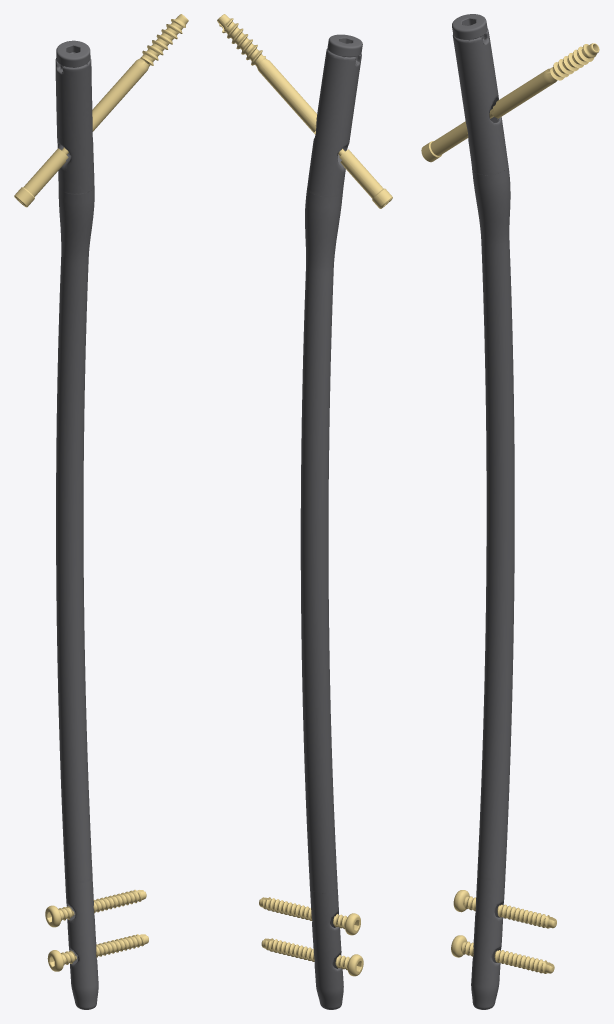
File: rewalk-femoral.glb
3 renders of one model, left to right at view 1: azimuth 30°, elevation 25°; view 2: azimuth 150°, elevation 25°; view 3: azimuth 330°, elevation 25°, orthographic. The views are drawn at different scales.
Parts seen in each view (by area): view 1: nail, neck_screw, lock_screw_2, lock_screw_1, end_cap; view 2: nail, neck_screw, lock_screw_1, lock_screw_2, end_cap; view 3: nail, neck_screw, lock_screw_1, lock_screw_2, end_cap.
Boxes of the visible parts, bbox=[...] form: nail: bbox=[55, 58, 98, 1009]; neck_screw: bbox=[14, 14, 188, 207]; lock_screw_2: bbox=[45, 889, 146, 927]; lock_screw_1: bbox=[47, 934, 148, 971]; end_cap: bbox=[56, 40, 90, 67]; nail: bbox=[300, 48, 361, 1009]; neck_screw: bbox=[217, 14, 392, 208]; lock_screw_1: bbox=[261, 938, 363, 976]; lock_screw_2: bbox=[259, 897, 360, 935]; end_cap: bbox=[327, 34, 362, 57]; nail: bbox=[452, 29, 514, 1009]; neck_screw: bbox=[421, 43, 599, 162]; lock_screw_1: bbox=[451, 935, 554, 973]; lock_screw_2: bbox=[453, 890, 556, 928]; end_cap: bbox=[452, 14, 487, 39].
Size of the model in its own units: 0.0718 by 0.3849 by 0.0236.
